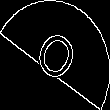O_SW: (28, 22, 82, 88)
